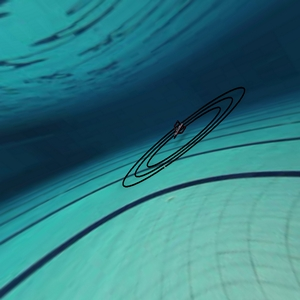circle: (117, 81, 252, 203)
